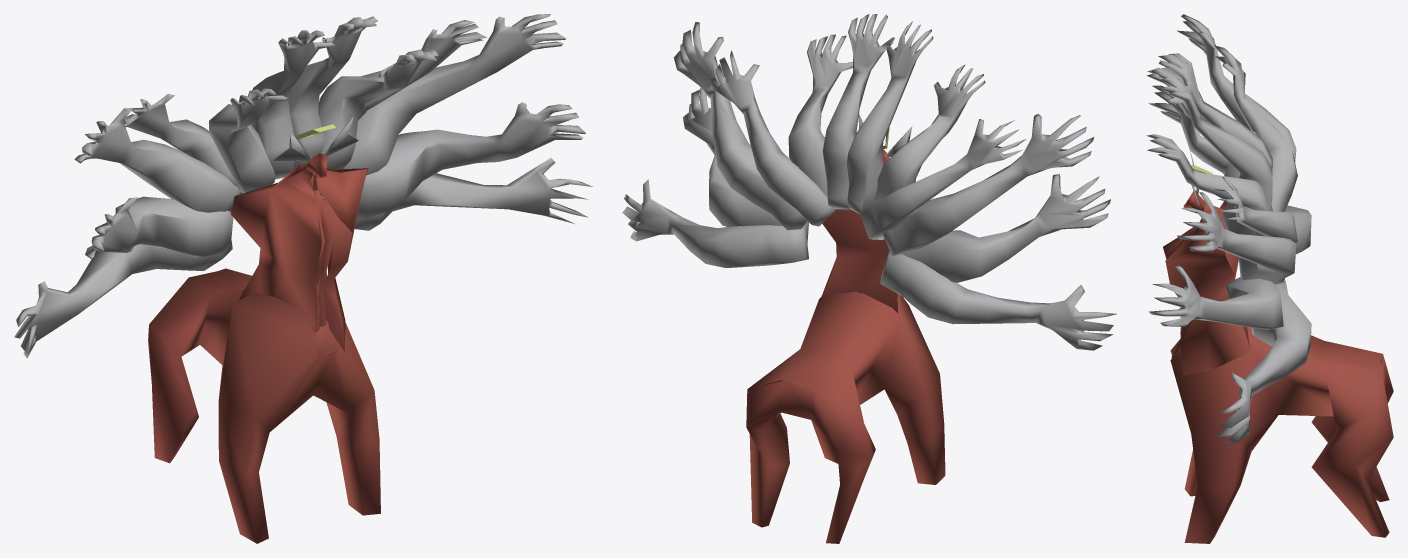
Rendered from god.glb.
3 renders of one model, left to right at view 1: azimuth 30°, elevation 25°; view 2: azimuth 150°, elevation 25°; view 3: azimuth 270°, elevation 25°, orthographic. The views are drawn at different scales.
Visible parts, largest first — view 1: Cube.001, Cylinder; view 2: Cube.001, Cylinder; view 3: Cube.001, Cylinder.
Boxes of the visible parts, left/top/right/bottom form: Cube.001: left=14, top=14, right=592, bottom=358; Cylinder: left=148, top=116, right=380, bottom=543; Cube.001: left=622, top=14, right=1116, bottom=350; Cylinder: left=746, top=114, right=945, bottom=543; Cube.001: left=1146, top=14, right=1311, bottom=442; Cylinder: left=1163, top=150, right=1393, bottom=543.
Bounding box in the file's own units: 55.07 × 46.77 × 23.13.
4 materials, 4 textured.
